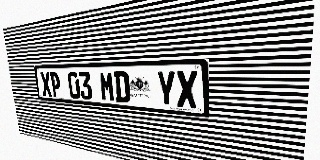0: (67, 72, 81, 99)
3: (78, 72, 93, 100)
D: (113, 71, 130, 103)
M: (99, 71, 115, 102)
P: (49, 72, 62, 97)
X: (176, 70, 198, 109), (40, 72, 52, 97)
Y: (156, 71, 176, 107)
